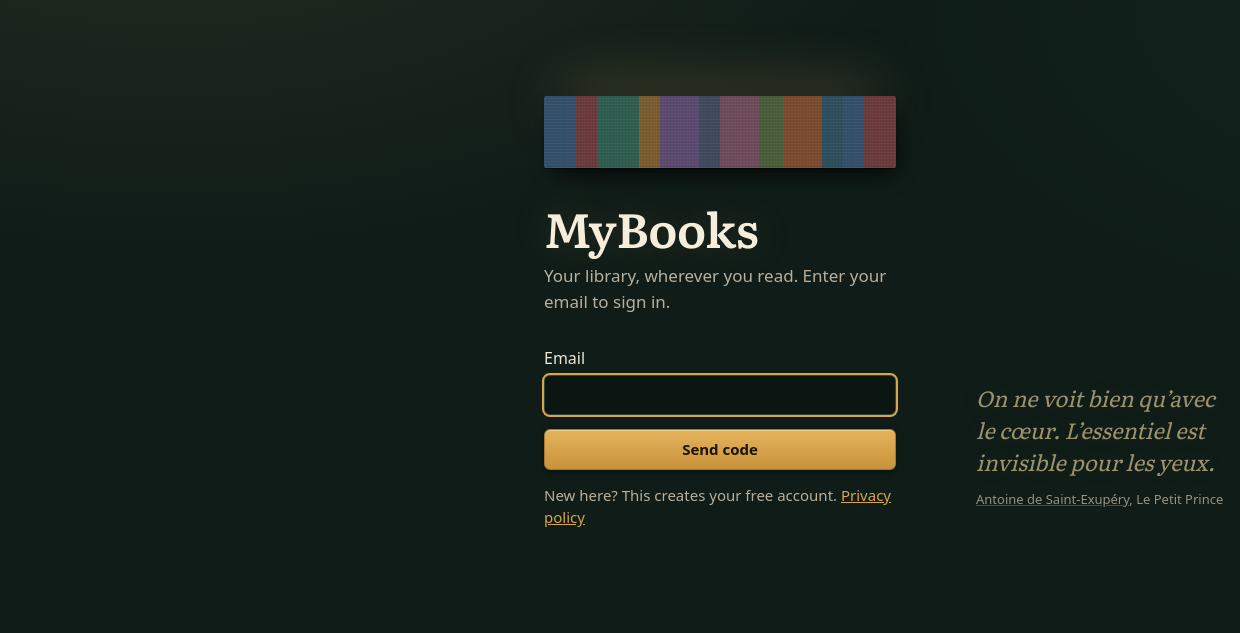
Test: SignIn › askingForAnotherCodeTooSoonSaysHowLongToWait
In the field labelled "Email": (720, 395) [544, 375, 896, 416], type "reader@example.com"
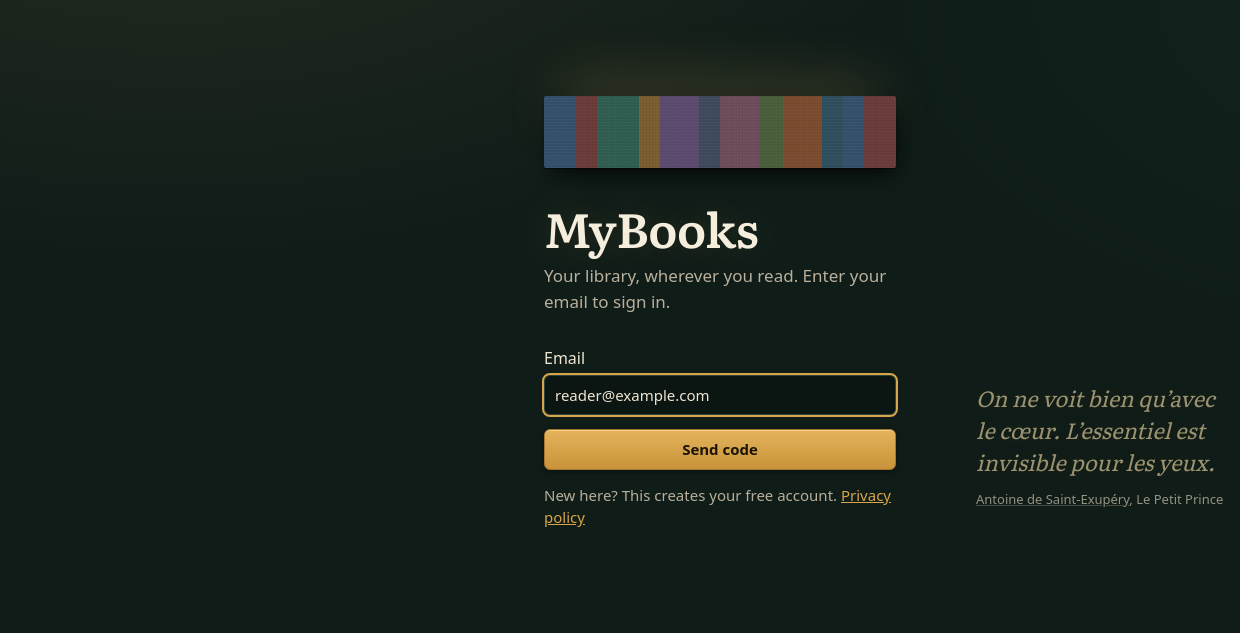
Click the button "Send code": (720, 450) [544, 430, 896, 470]
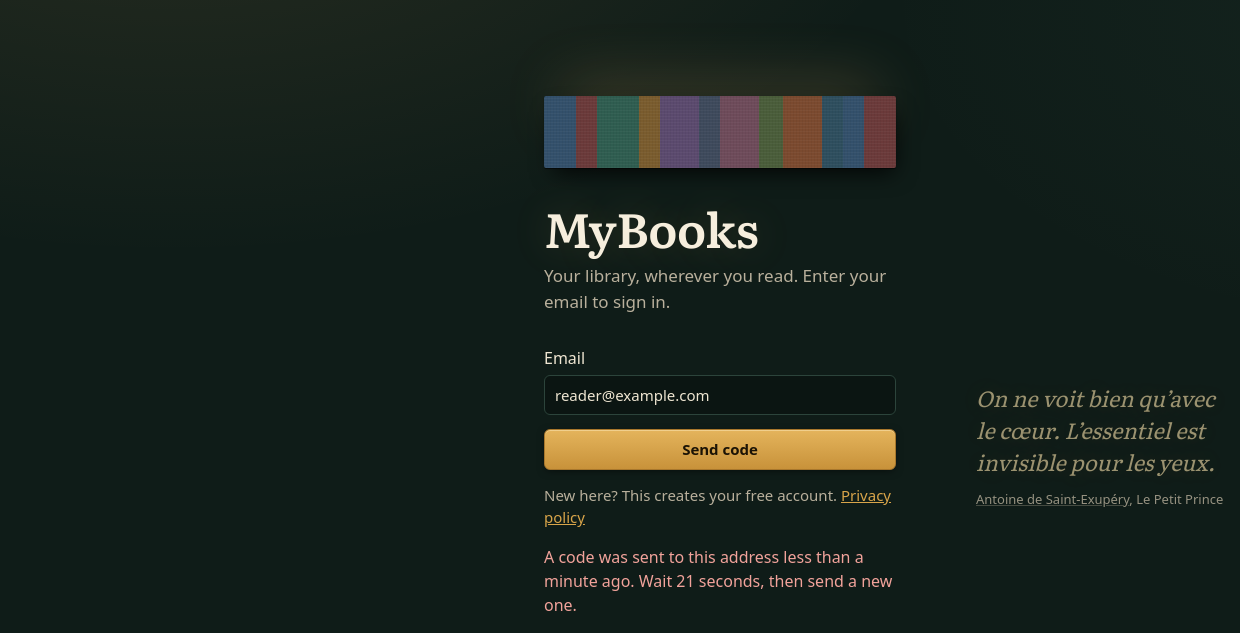
Expected: the message shows "A code was sent to this address less than a minute ago. Wait 21 seconds, then send a new one.", [544, 546, 892, 616]
Click the button "Send code": (720, 450) [544, 430, 896, 470]
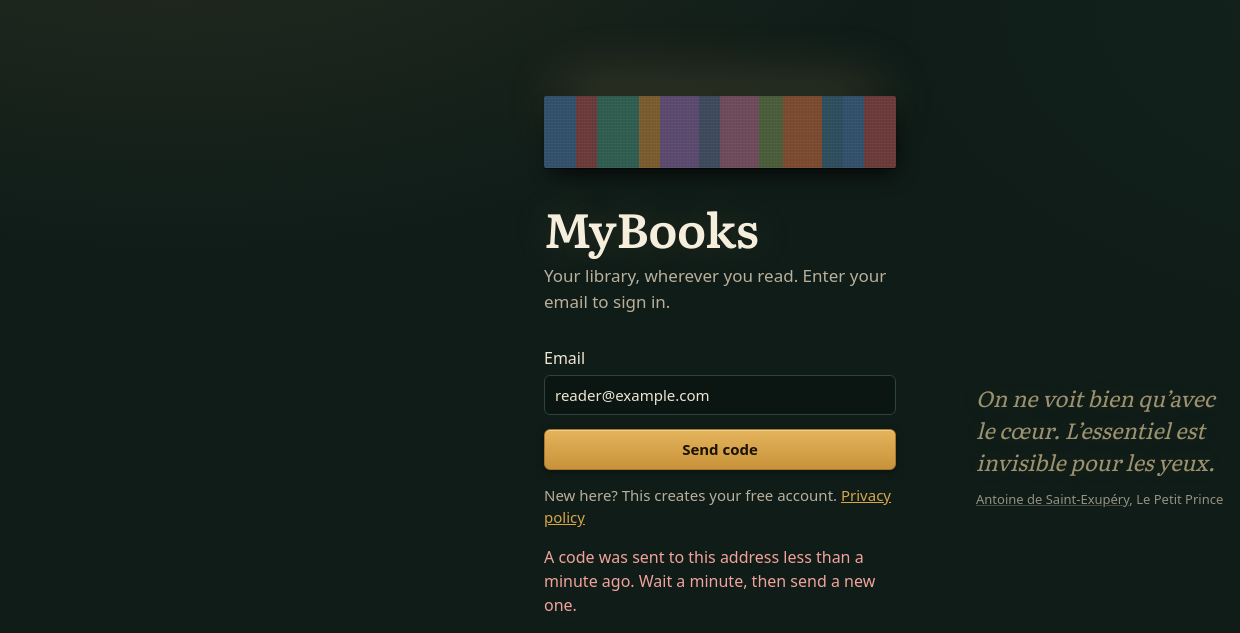
Expected: the message shows "A code was sent to this address less than a minute ago. Wait a minute, then send a new one.", [544, 546, 875, 616]
